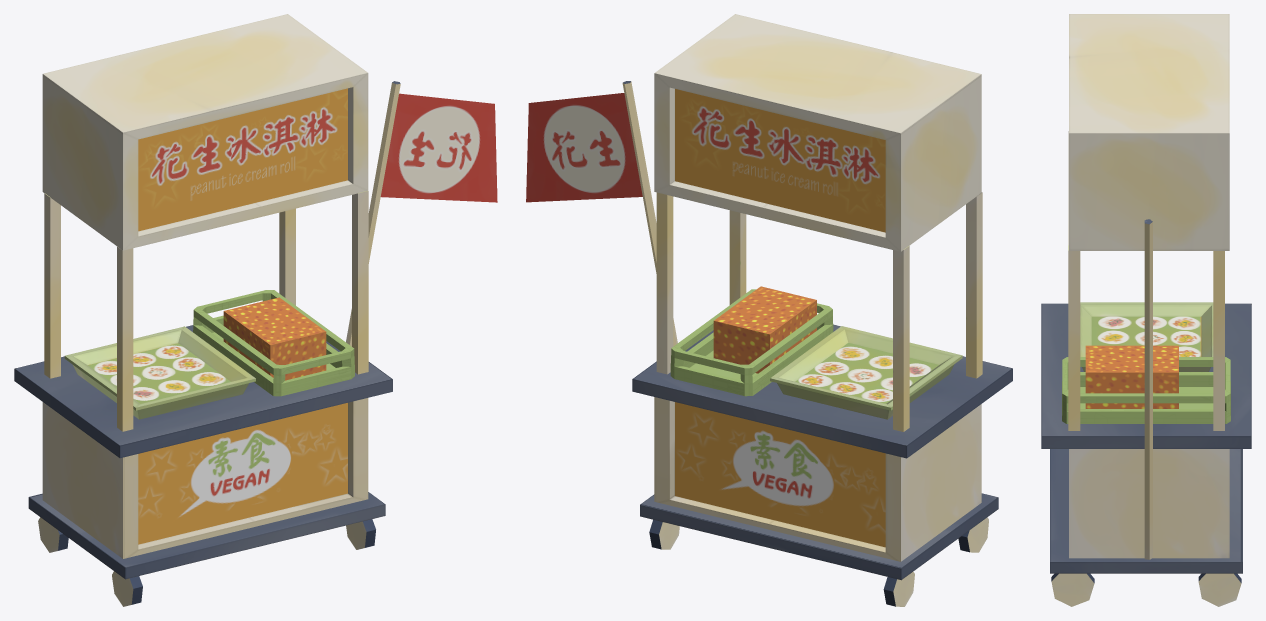
The model's file is Stand_1.glb.
The picture shows the model from 3 angles, left to right: view 1: azimuth 30°, elevation 25°; view 2: azimuth 150°, elevation 25°; view 3: azimuth 270°, elevation 25°; orthographic projection.
Parts seen in each view (by area): view 1: Stand.1.001; view 2: Stand.1.001; view 3: Stand.1.001.
Boxes of the visible parts, x1,y1,x2,y2 form: Stand.1.001: [14, 14, 497, 606]; Stand.1.001: [526, 14, 1012, 606]; Stand.1.001: [1041, 14, 1251, 606].
Bounding box in the file's own units: 3.7 × 3.9 × 1.57.
Materials: 1 (1 with a texture image).
